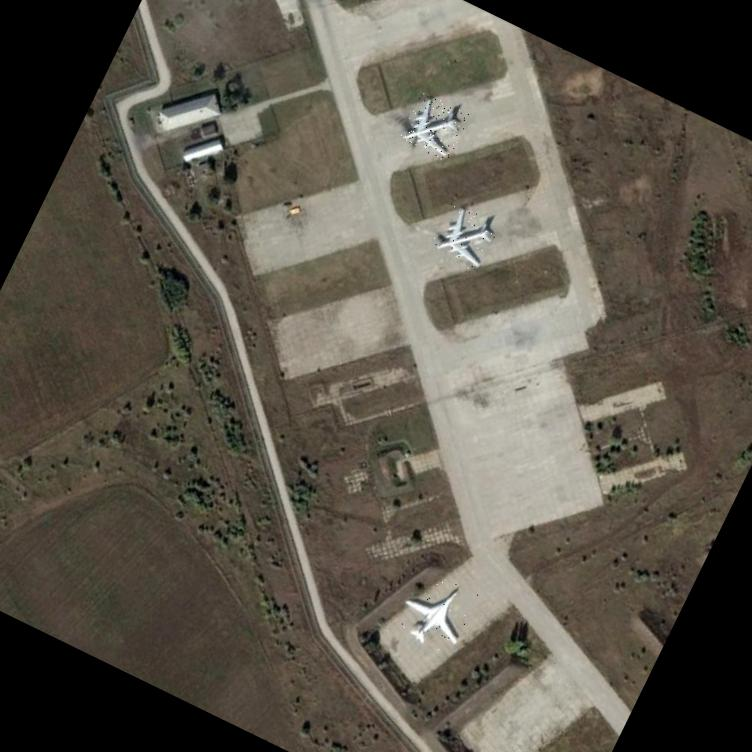A17: (428, 200, 501, 273), (398, 92, 470, 162)
A6: (390, 567, 478, 658)
